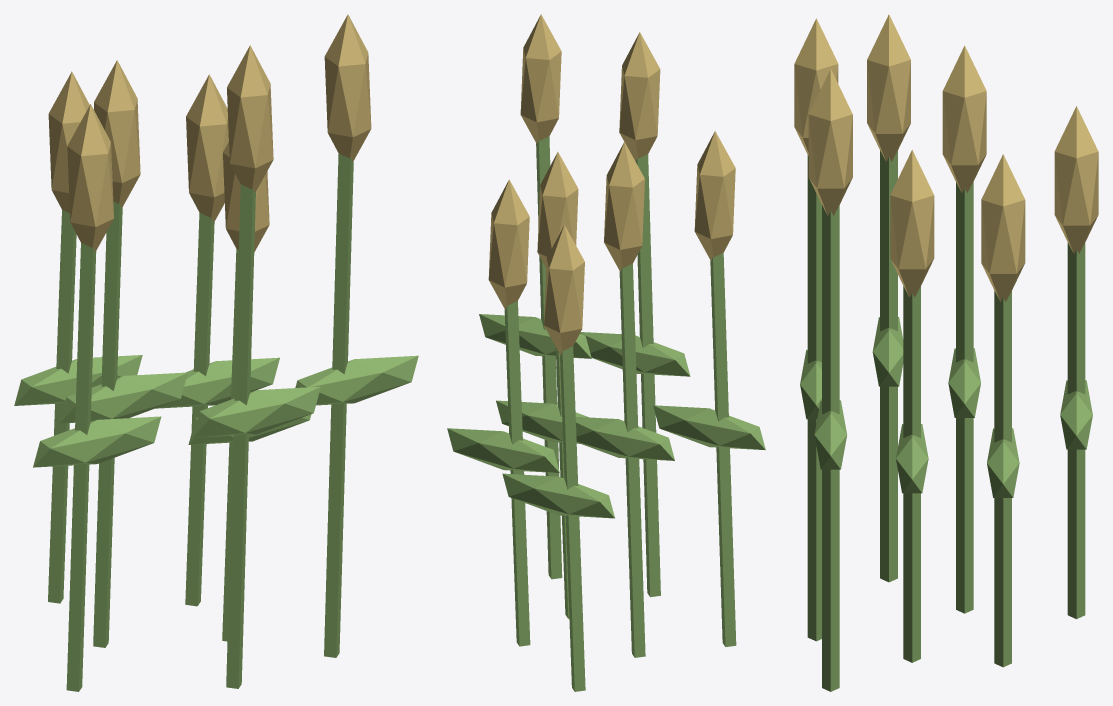
File: plant_wild_grain_ripe.glb
3 renders of one model, left to right at view 1: azimuth 30°, elevation 25°; view 2: azimuth 150°, elevation 25°; view 3: azimuth 270°, elevation 25°, orthographic. The views are drawn at different scales.
Parts seen in each view (by area): view 1: plant_wild_grain_ripe; view 2: plant_wild_grain_ripe; view 3: plant_wild_grain_ripe.
Part boxes in pixels (<box>): plant_wild_grain_ripe: <box>14,14,418,691</box>; plant_wild_grain_ripe: <box>447,14,765,691</box>; plant_wild_grain_ripe: <box>794,14,1098,691</box>.
Bounding box in the file's own units: 0.5479 × 0.936 × 0.4112.
